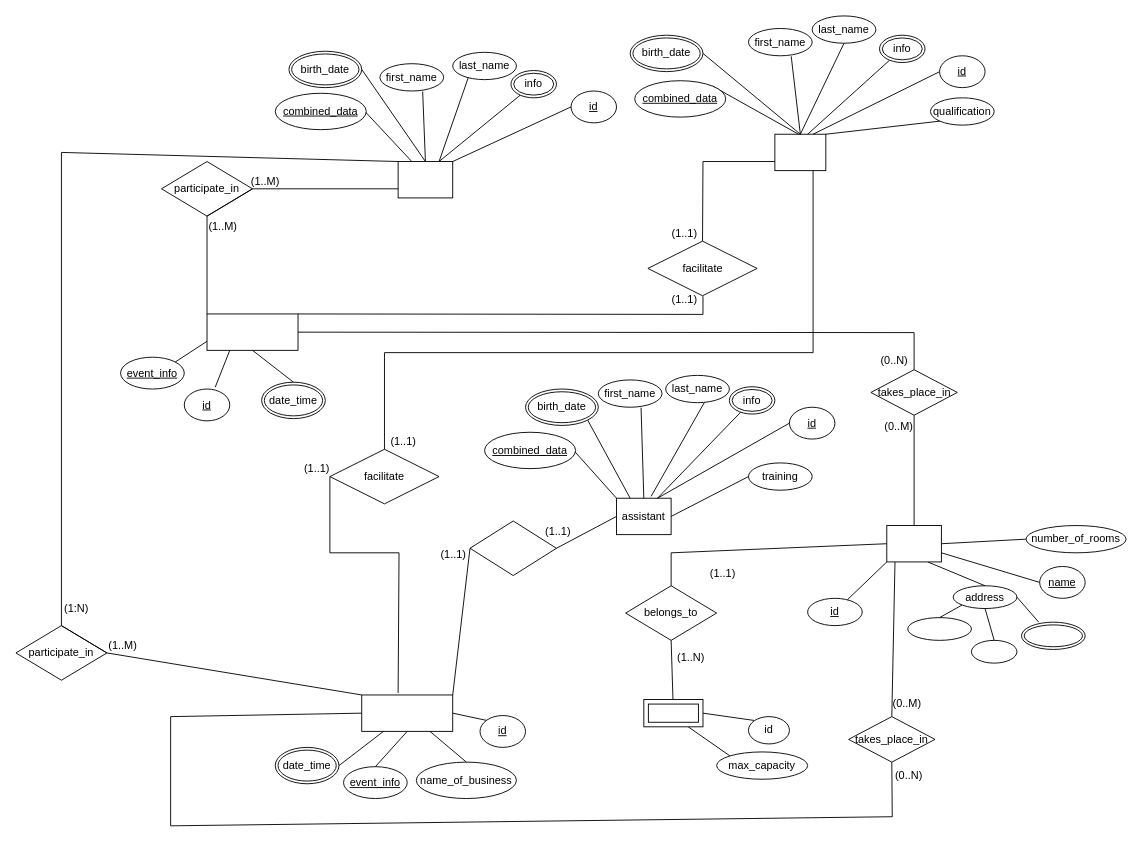
Some shapes in this 1142 by 843 pixel diagram are drawn without their labels. Here are the shapes that lost their labels. From the top down, the box of each, then its label:
(774, 133, 826, 171): facilitator
(397, 161, 453, 198): member
(206, 313, 298, 350): open-to-public _event
(469, 520, 556, 576): assist_in
(886, 525, 941, 562): venue
(907, 617, 971, 640): country
(1021, 621, 1085, 649): street_info
(971, 639, 1017, 663): city
(361, 694, 453, 731): exclusive-to-business_event
(643, 699, 703, 727): room
